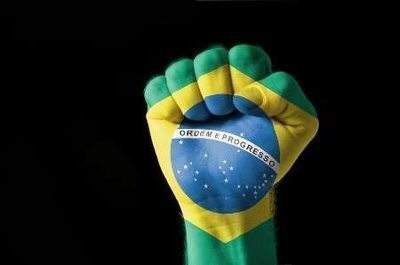closedhandfront: (133, 33, 337, 214)
